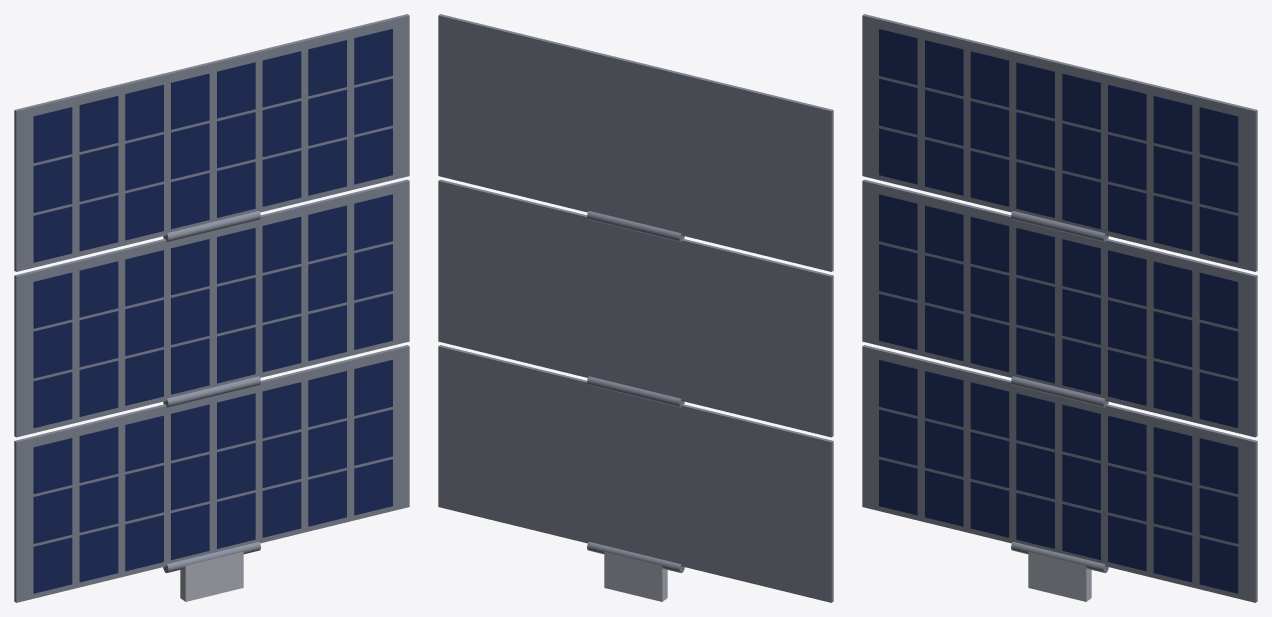
File: pan90.glb
3 views of the same model, side by side, from view 1: azimuth 30°, elevation 25°; view 2: azimuth 150°, elevation 25°; view 3: azimuth 330°, elevation 25° (orthographic).
Parts seen in each view (by area): view 1: pan90, pan90_yugo; view 2: pan90, pan90_yugo; view 3: pan90, pan90_yugo.
Boxes of the visible parts, x1=… form: pan90: x1=14, y1=14, x2=409, y2=602; pan90_yugo: x1=180, y1=551, x2=243, y2=601; pan90: x1=438, y1=14, x2=833, y2=602; pan90_yugo: x1=604, y1=551, x2=667, y2=601; pan90: x1=862, y1=14, x2=1257, y2=602; pan90_yugo: x1=1028, y1=551, x2=1091, y2=601.
Size of the model in its own units: 0.34 by 0.438 by 0.008.
